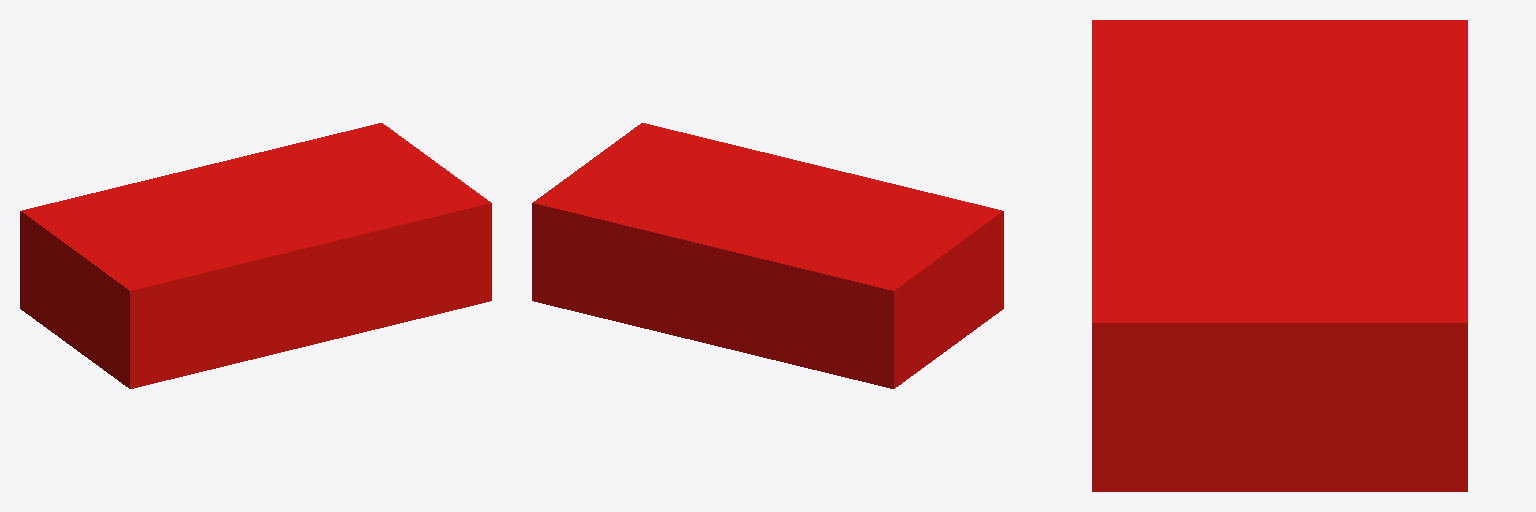
The robot description file, URDF, robot "model.urdf":
<?xml version="0.0" ?>
<robot name="model.urdf">
  <link name="baseLink">
    <contact>
      <friction_anchor/>
      <lateral_friction value="0.3"/>
      <rolling_friction value="0.0"/>
      <contact_cfm value="0.0"/>
      <contact_erp value="1.0"/>
    </contact>
    <inertial>
       <origin rpy="0 0 0" xyz="0 0 0"/>
       <mass value="0.1"/>
       <inertia ixx="8e-05" ixy="0" ixz="0" iyy="0.0002" iyz="0" izz="0.0002"/>
    </inertial>
    <visual>
      <geometry>
        <box size="0.177 0.093 0.046"/>
      </geometry>
      <material name="sugar_red">
        <color rgba="0.92 0.12 0.10 1.0"/>
      </material>
    </visual>
    <collision>
      <geometry>
    	 	<mesh filename="collision.obj" scale="1 1 1"/>
      </geometry>
    </collision>
  </link>
</robot>

--- What the picture shows (computed from the rendered views, not written in the file) ---
Views: 3 orthographic renders of the robot side by side, from view 1: azimuth 30°, elevation 25°; view 2: azimuth 150°, elevation 25°; view 3: azimuth 270°, elevation 25°.
Robot: model.urdf — 1 links, 0 joints (none); root link baseLink; default pose: every joint at zero.
Links seen in each view (by area): view 1: baseLink; view 2: baseLink; view 3: baseLink.
Link boxes in pixels (x1,y1,x2,y2): baseLink: [20, 123, 491, 388]; baseLink: [532, 123, 1003, 388]; baseLink: [1092, 20, 1467, 491].
Bounding box of the posed robot: 0.177 × 0.093 × 0.046 m (x, y, z).
Geometry: primitives only (box / cylinder / sphere), no mesh files.
